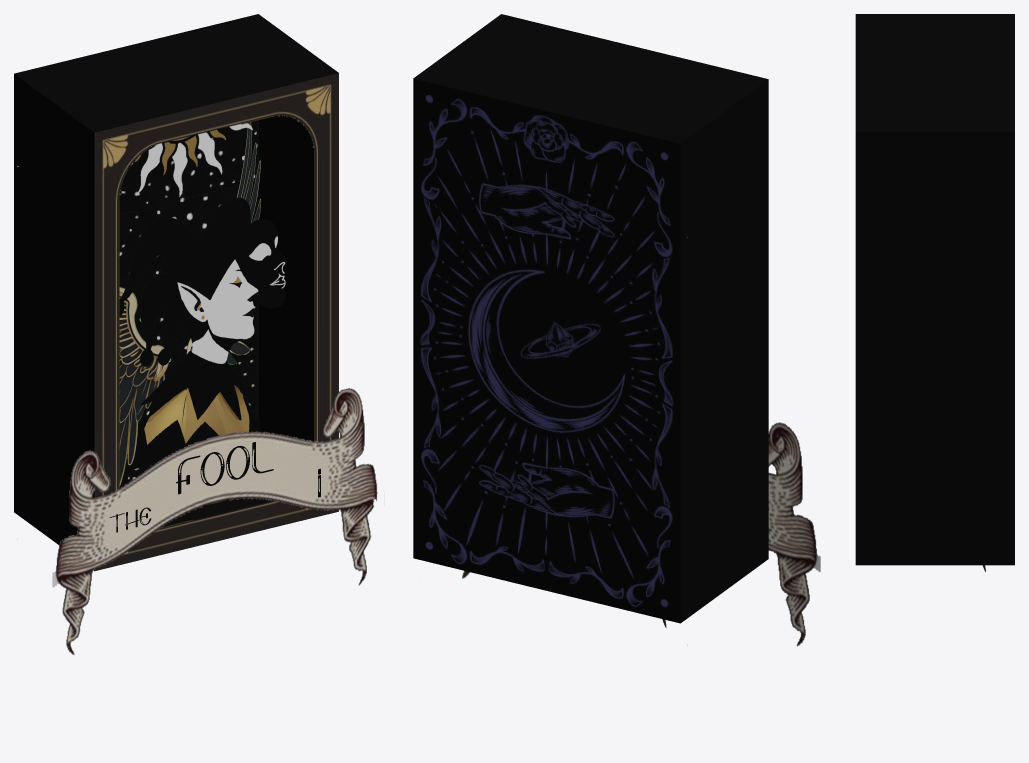
Rendered from the-fool.glb.
3 views of the same model, side by side, from view 1: azimuth 30°, elevation 25°; view 2: azimuth 150°, elevation 25°; view 3: azimuth 270°, elevation 25° (orthographic). The views are drawn at different scales.
Parts seen in each view (by area): view 1: Card.002, CardTextBox.001, Arcana Char.001, CardBackground.001, Wing L, Branch.001, Wing R, "Fool"; view 2: Card.002, CardTextBox.001; view 3: Card.002.
Part boxes in pixels (x1,y1,x2,y2): Card.002: (14, 14, 338, 571); CardTextBox.001: (52, 388, 377, 654); Arcana Char.001: (119, 197, 286, 469); CardBackground.001: (119, 120, 258, 483); Wing L: (17, 166, 168, 486); Branch.001: (134, 123, 252, 197); Wing R: (186, 122, 261, 364); "Fool": (176, 442, 273, 494); Card.002: (413, 14, 768, 623); CardTextBox.001: (768, 422, 820, 646); Card.002: (855, 14, 1014, 565).
Size of the model in its own units: 2.38 by 4.13 by 1.04.
Materials: 12 (8 with a texture image).
